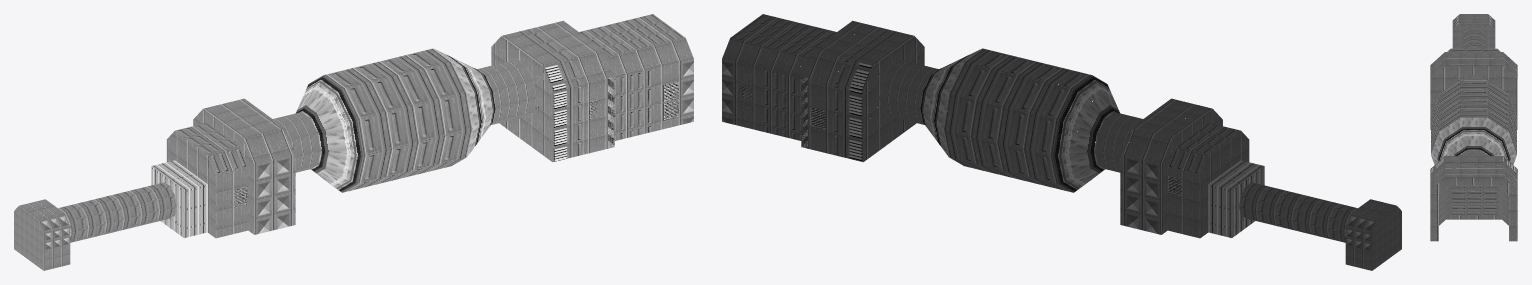
Rendered from Pdest_engineZ.obj.
3 renders of one model, left to right at view 1: azimuth 30°, elevation 25°; view 2: azimuth 150°, elevation 25°; view 3: azimuth 270°, elevation 25°, orthographic. The views are drawn at different scales.
Bounding box in the file's own units: 12658 × 1964 × 2100.
13 materials, 13 textured.
